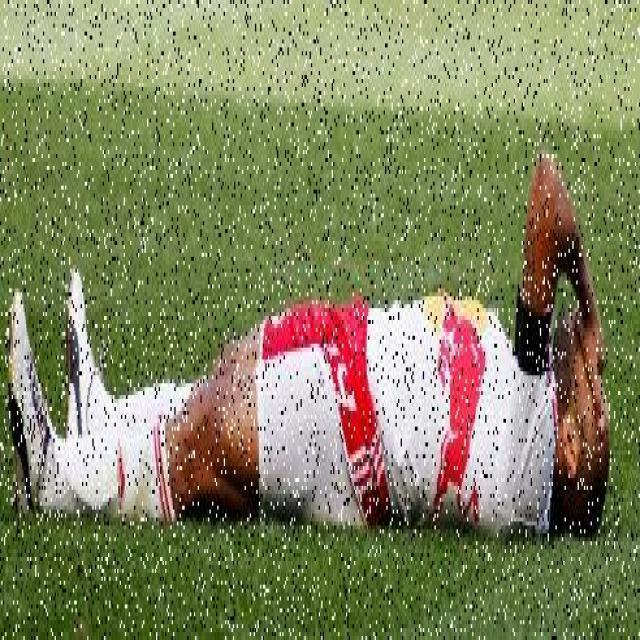fall: (4, 182, 610, 526)
